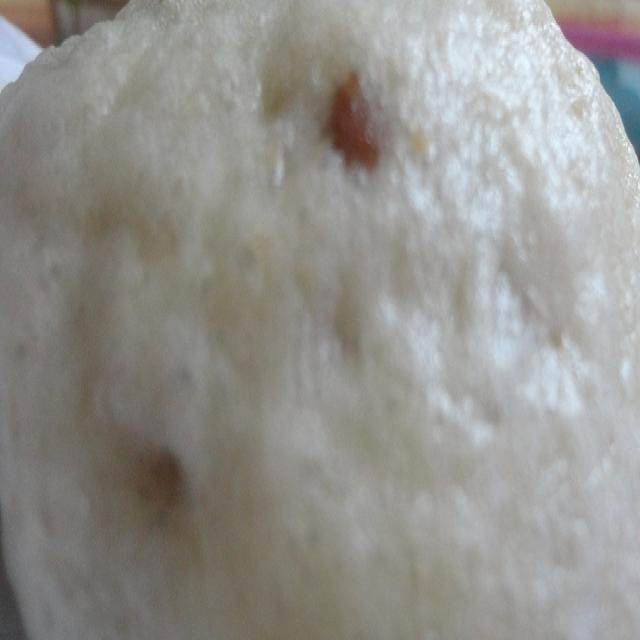带馅早点: (14, 7, 630, 624)
